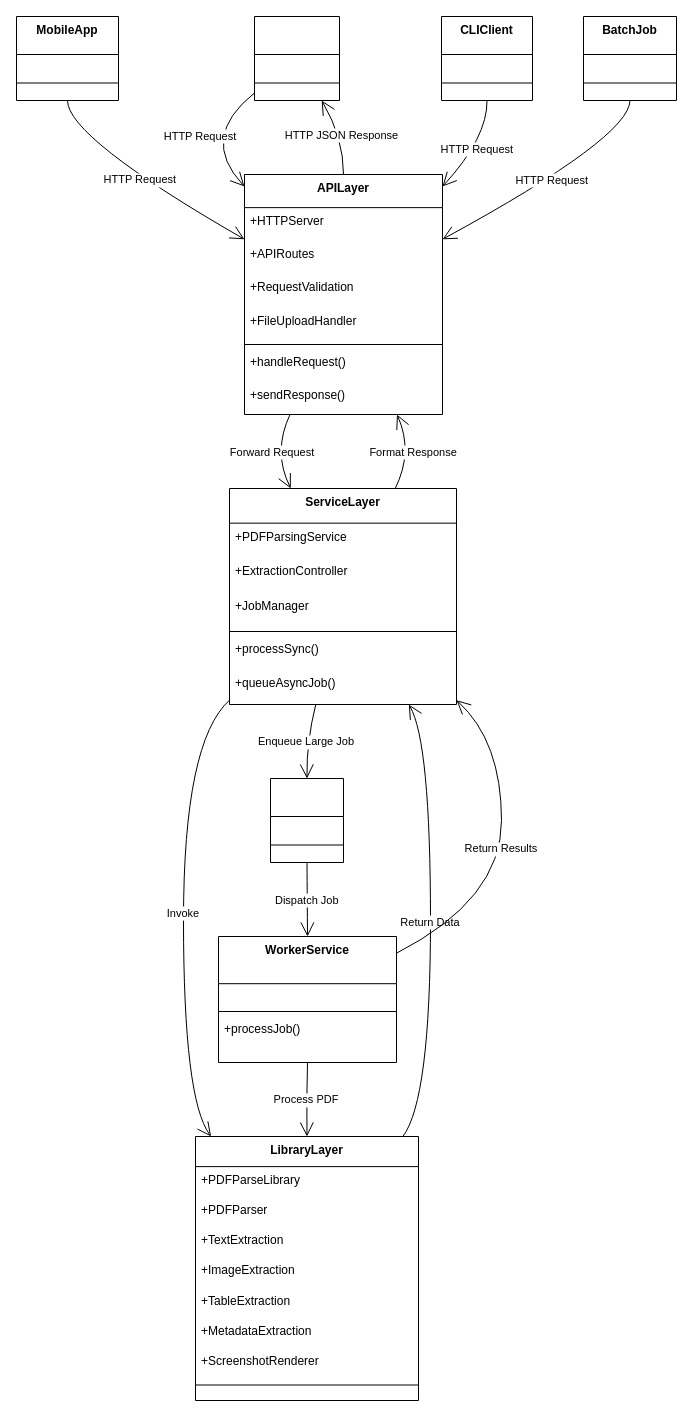
Image size: 693x1417. Some labels were removed from this diagram. The centre of each missing label's shape, as x and y in pixels:
"Queue" belongs at point 307,820.
"WebApp" belongs at point 297,58.
